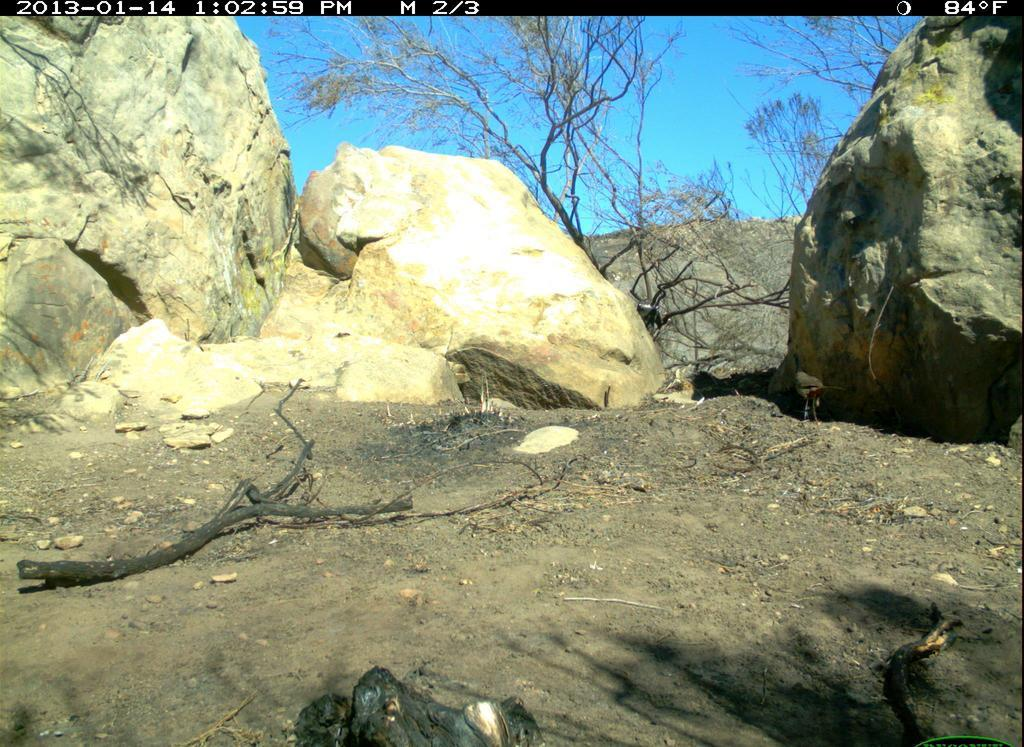bird: (777, 359, 849, 433)
